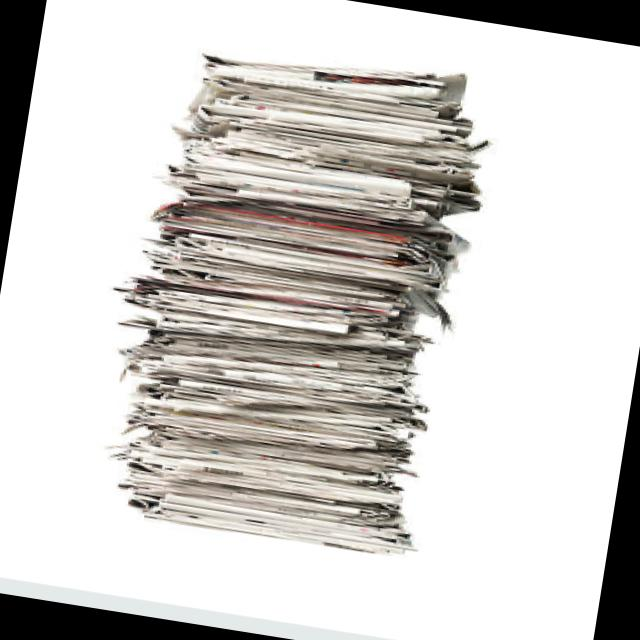Koran: (79, 22, 503, 564)
